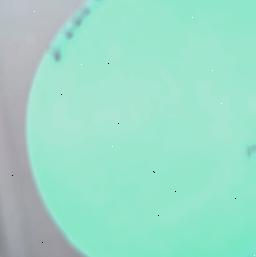algae: (33, 0, 256, 257)
